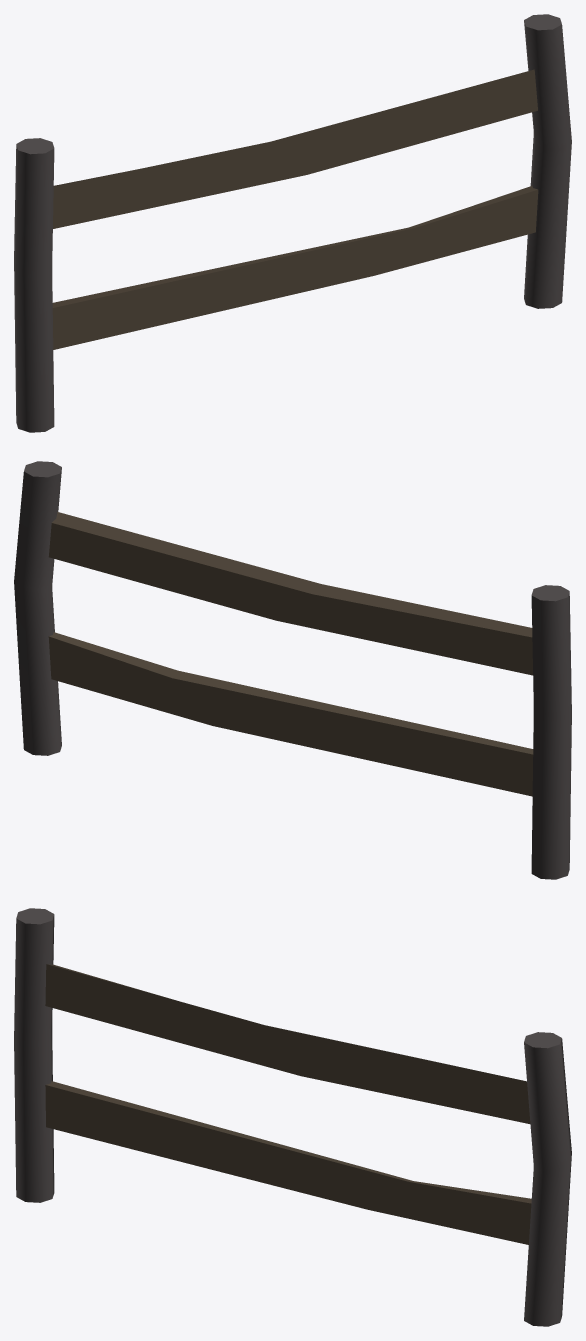
Rendered from fence.gltf.
The picture shows the model from 3 angles, top to bottom: view 1: azimuth 30°, elevation 25°; view 2: azimuth 150°, elevation 25°; view 3: azimuth 330°, elevation 25°; orthographic projection.
Parts seen in each view (by area): view 1: node-0; view 2: node-0; view 3: node-0.
Part boxes in pixels (x1,y1,x2,y2): node-0: [14, 14, 571, 432]; node-0: [14, 461, 571, 879]; node-0: [14, 908, 571, 1326].
Bounding box in the file's own units: 2.09 × 1.01 × 0.1294.
